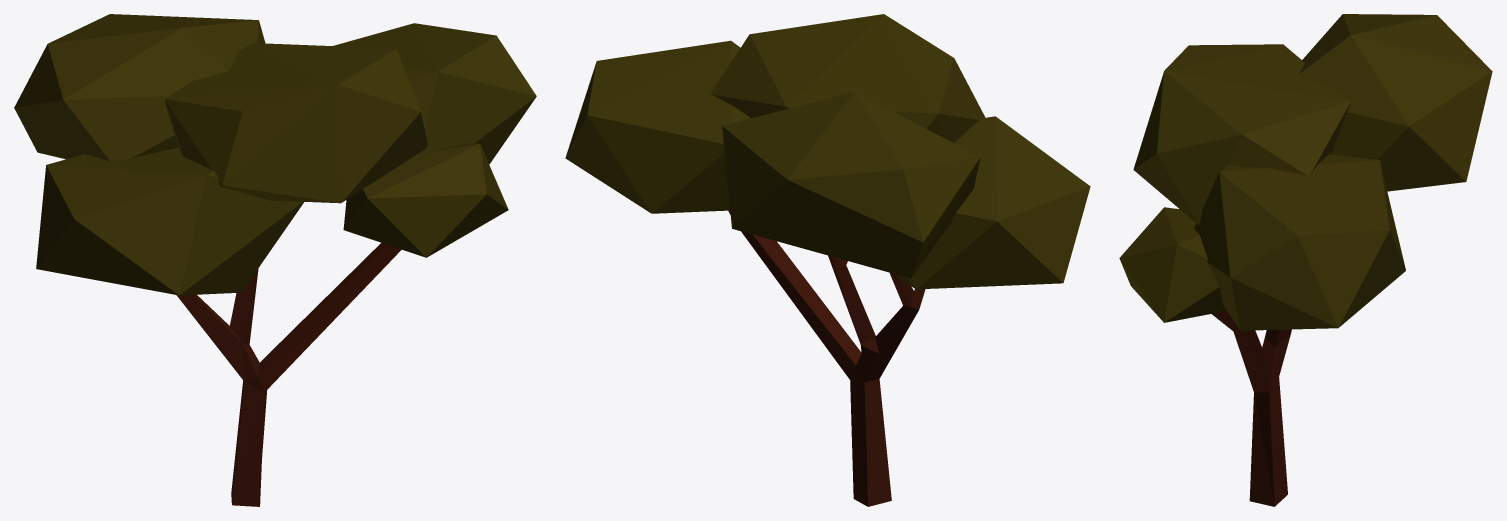
The model's file is BlobTree2.fbx.glb.
The picture shows the model from 3 angles, left to right: view 1: azimuth 30°, elevation 25°; view 2: azimuth 150°, elevation 25°; view 3: azimuth 270°, elevation 25°; orthographic projection.
Visible parts, largest first — view 1: BlobTree2; view 2: BlobTree2; view 3: BlobTree2.
Part boxes in pixels (bbox=[...]): BlobTree2: bbox=[14, 14, 536, 506]; BlobTree2: bbox=[565, 14, 1090, 506]; BlobTree2: bbox=[1119, 14, 1492, 506].
Bounding box in the file's own units: 330 × 296 × 221.
